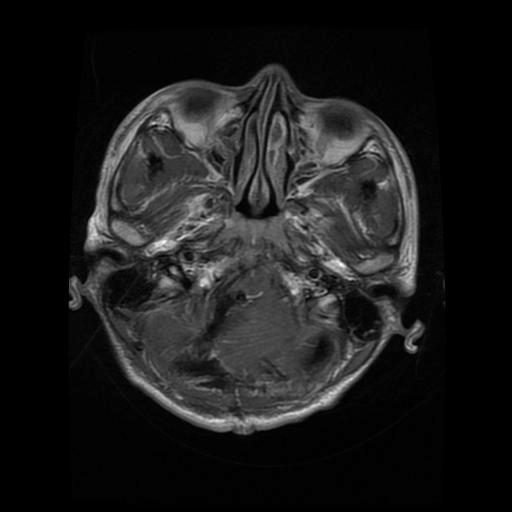Tumour-Glioma: (230, 352, 352, 407)
